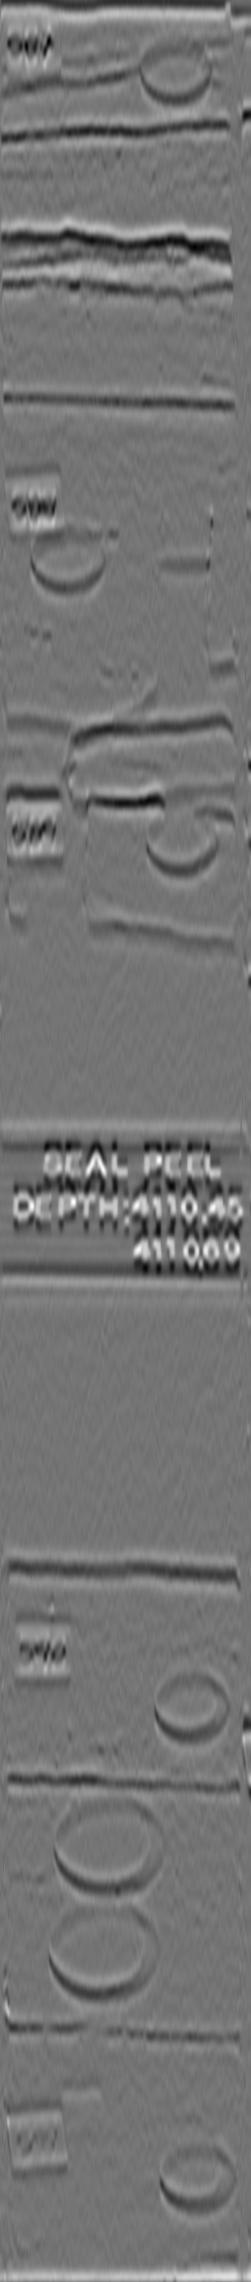hplug: (144, 1666, 242, 1752), (150, 2131, 242, 2218), (133, 25, 219, 109), (131, 802, 220, 883), (26, 517, 114, 594)
scal: (47, 1790, 177, 1899), (42, 1902, 163, 2005)
vplug: (144, 506, 231, 672), (47, 2086, 115, 2281), (35, 1621, 107, 1783), (16, 799, 102, 921), (45, 9, 131, 130)
